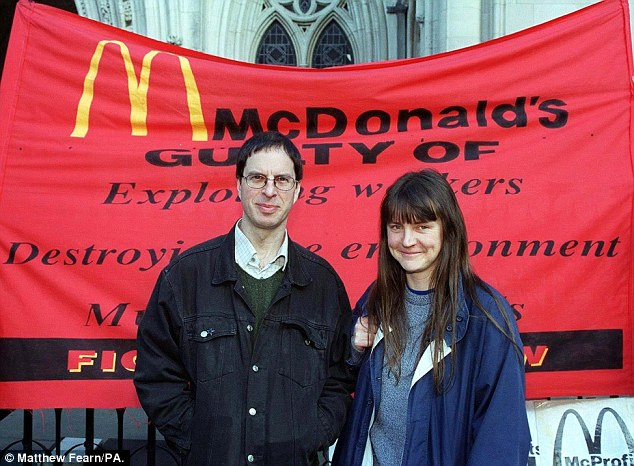mcdonalds: (71, 38, 209, 141)
